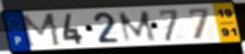2: (93, 11, 124, 45)
4: (62, 12, 85, 46)
7: (187, 7, 213, 41), (158, 8, 181, 42)
M: (20, 12, 64, 50), (116, 10, 159, 44)
